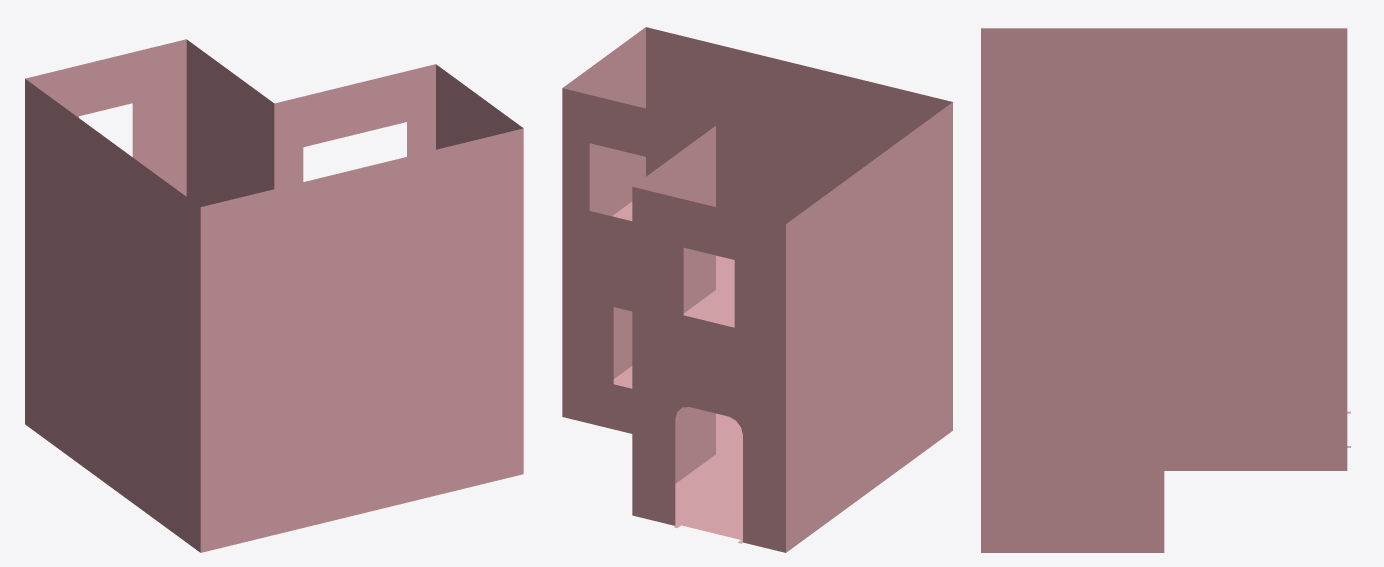
Rendered from Bld_R_low_L2_C.fbx.
3 views of the same model, side by side, from view 1: azimuth 30°, elevation 25°; view 2: azimuth 150°, elevation 25°; view 3: azimuth 270°, elevation 25° (orthographic). The views are drawn at different scales.
Parts seen in each view (by area): view 1: Bld_R_low_L2_C_LOD0; view 2: Bld_R_low_L2_C_LOD0; view 3: Bld_R_low_L2_C_LOD0.
Part boxes in pixels (box(x1,y1,x2,y2)): Bld_R_low_L2_C_LOD0: box(25, 39, 523, 552); Bld_R_low_L2_C_LOD0: box(562, 27, 952, 552); Bld_R_low_L2_C_LOD0: box(981, 28, 1350, 552).
Size of what is drawn, in the model's own units: 600 by 648 by 600.
Materials: 1 (1 with a texture image).
